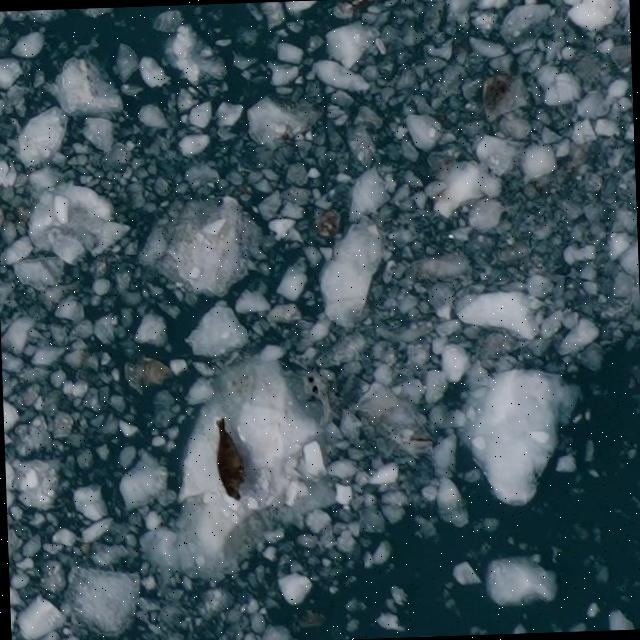seal: (215, 415, 246, 502)
